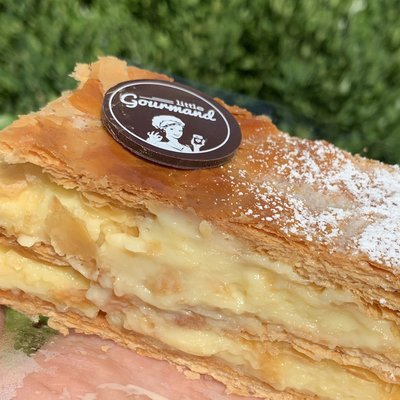sandwich: (0, 71, 400, 400)
sushi: (0, 51, 400, 400)
